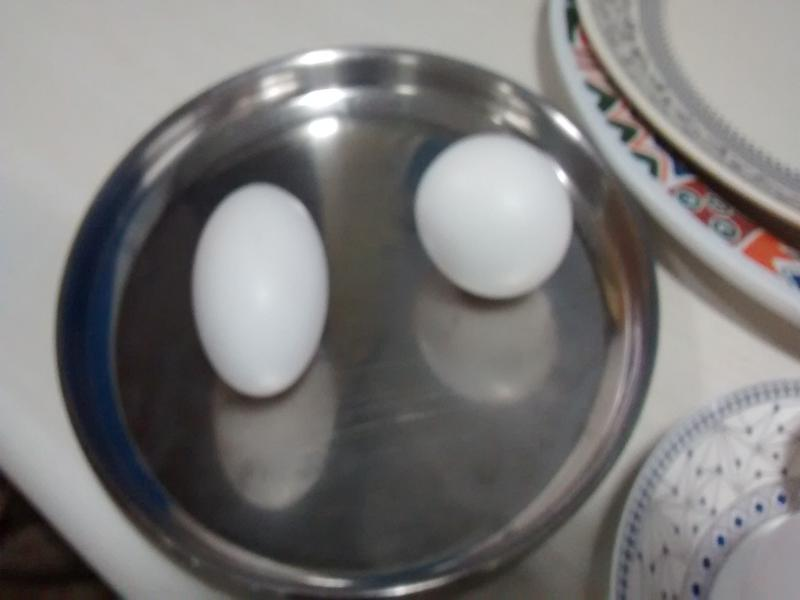egg: (195, 185, 334, 404)
